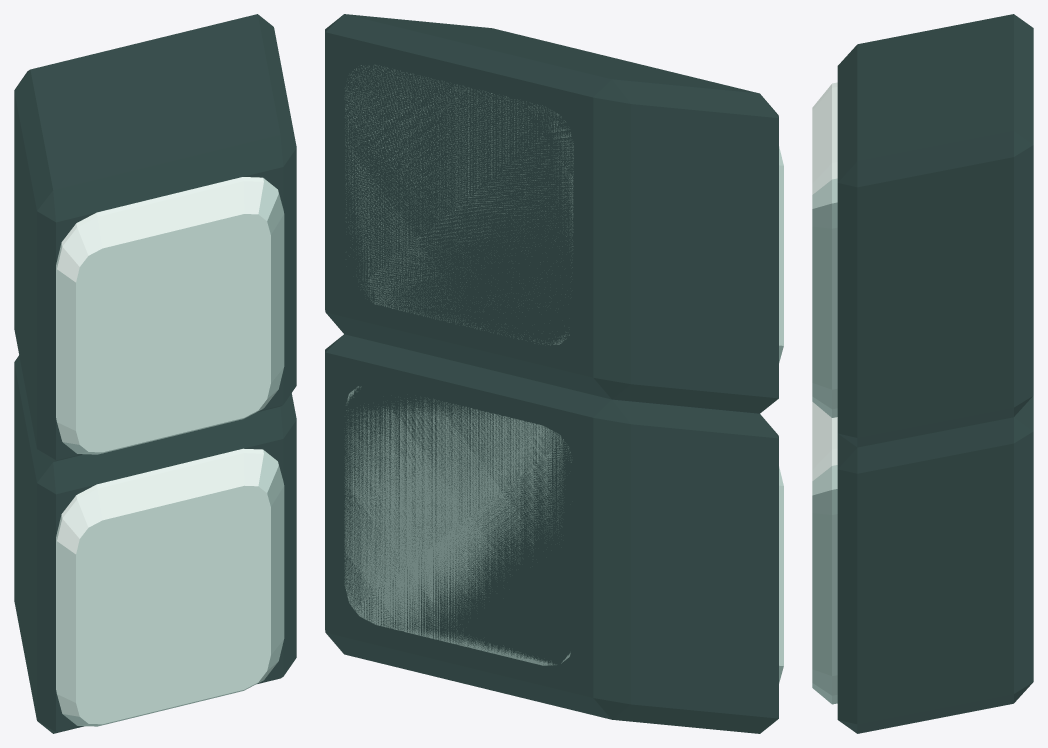
File: Terrain_Block1x2.gltf
3 renders of one model, left to right at view 1: azimuth 30°, elevation 25°; view 2: azimuth 150°, elevation 25°; view 3: azimuth 270°, elevation 25°, orthographic. The views are drawn at different scales.
Parts seen in each view (by area): view 1: Terrain_Block1x2_baked; view 2: Terrain_Block1x2_baked; view 3: Terrain_Block1x2_baked.
Part boxes in pixels (left/top/right/bottom): Terrain_Block1x2_baked: left=14, top=14, right=296, bottom=733; Terrain_Block1x2_baked: left=325, top=14, right=783, bottom=733; Terrain_Block1x2_baked: left=812, top=14, right=1033, bottom=733.
Size of the model in its own units: 1.2 by 2.2 by 0.7.
